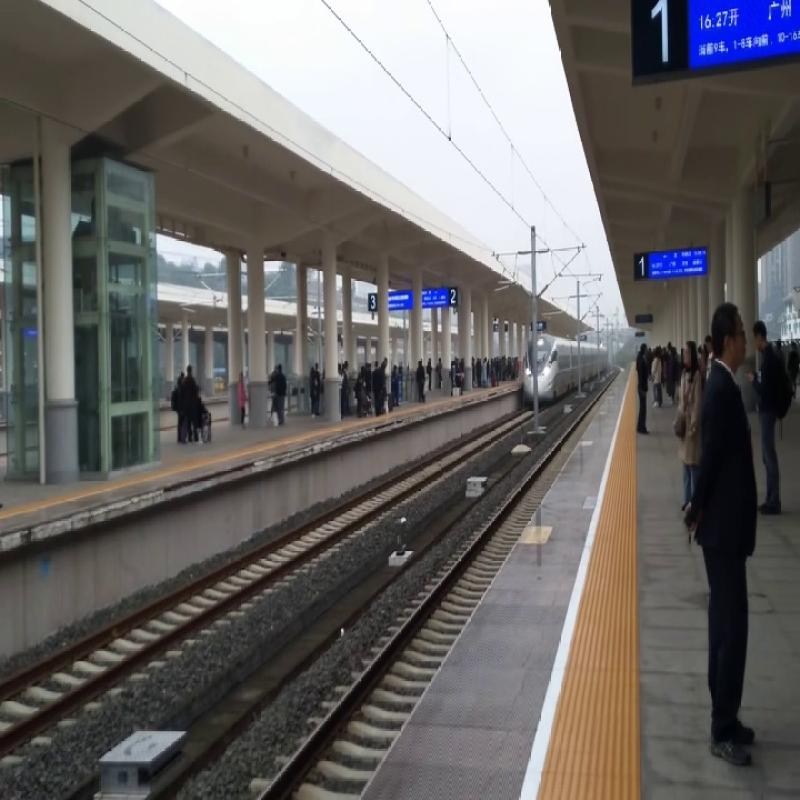train: (527, 331, 605, 402)
